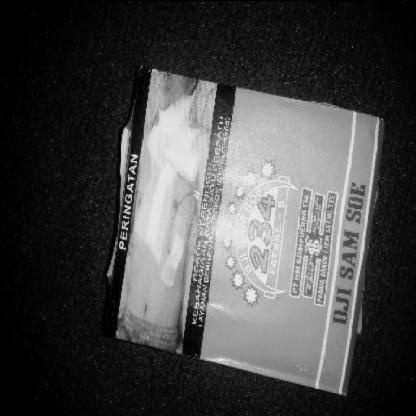objects: (101, 66, 386, 394)
